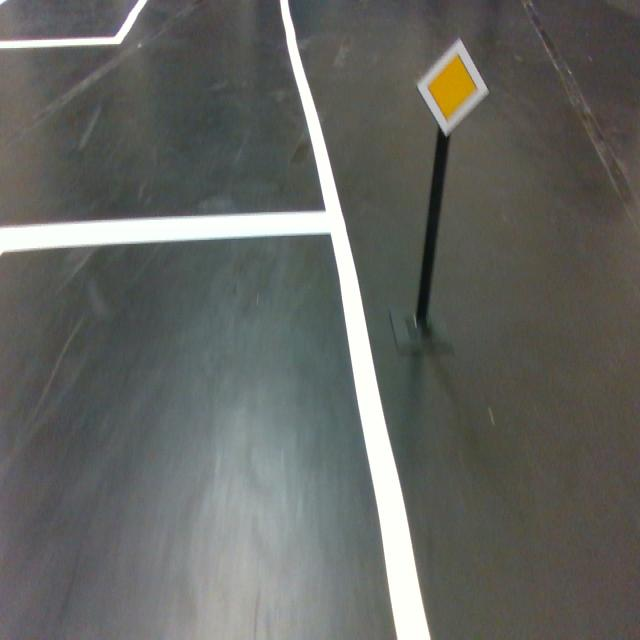priority-sign: (415, 36, 490, 138)
